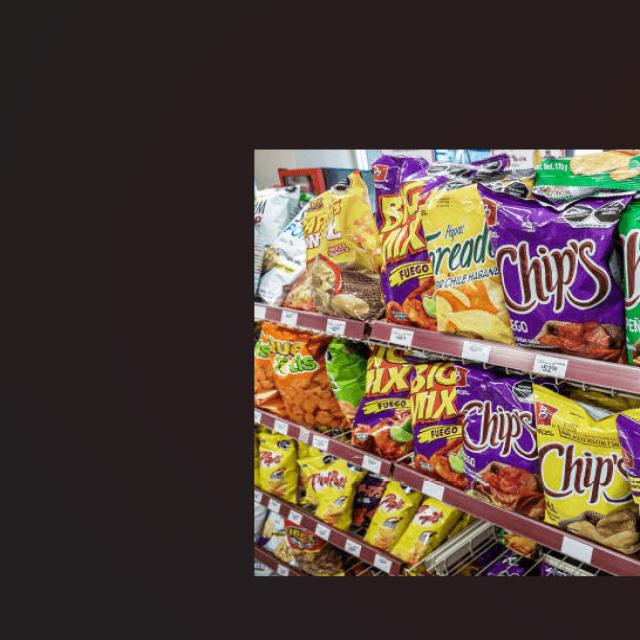chipsFuego: (497, 197, 626, 348), (465, 386, 534, 500)
